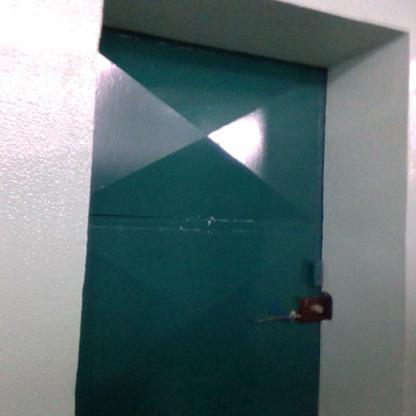door: (101, 20, 325, 416)
